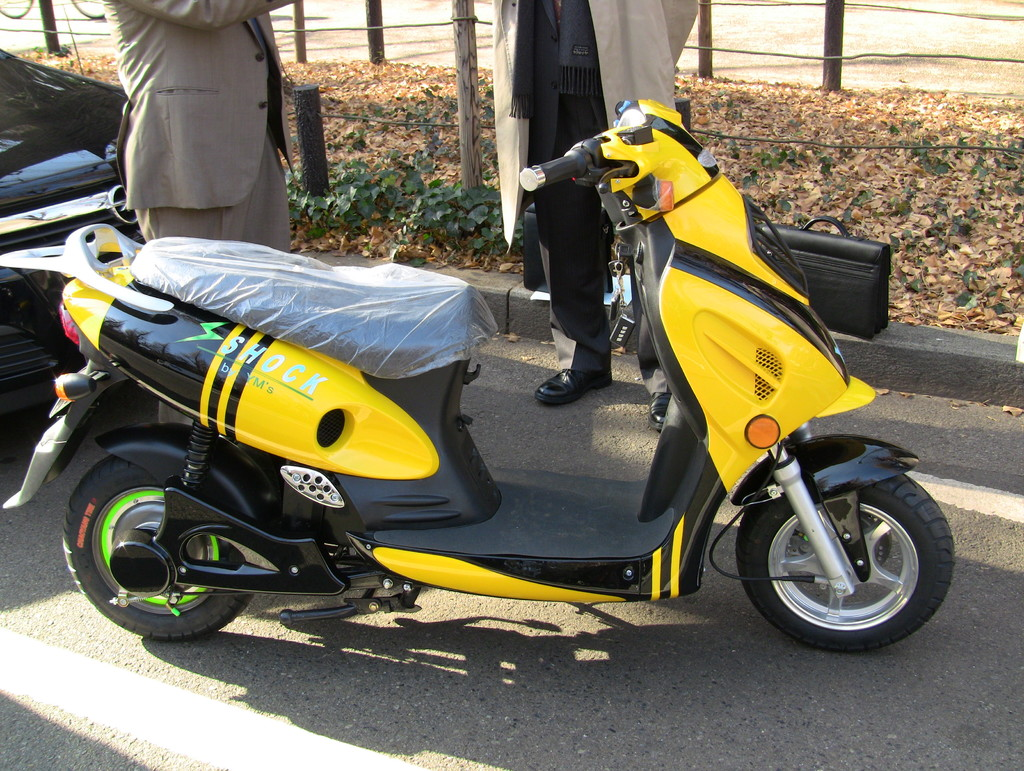Car: (0, 41, 143, 396)
